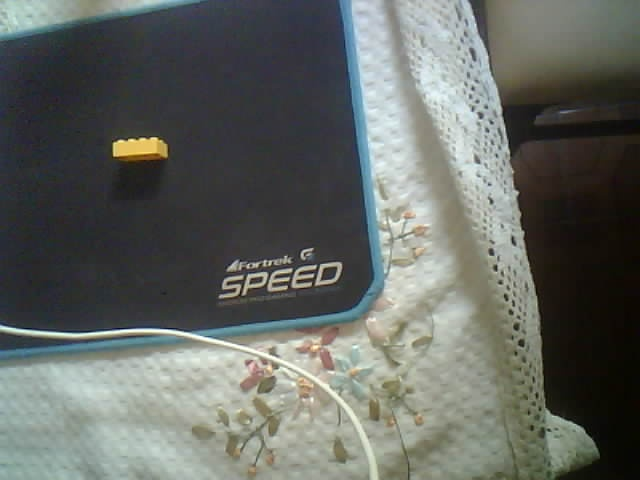lego: (111, 137, 168, 161)
